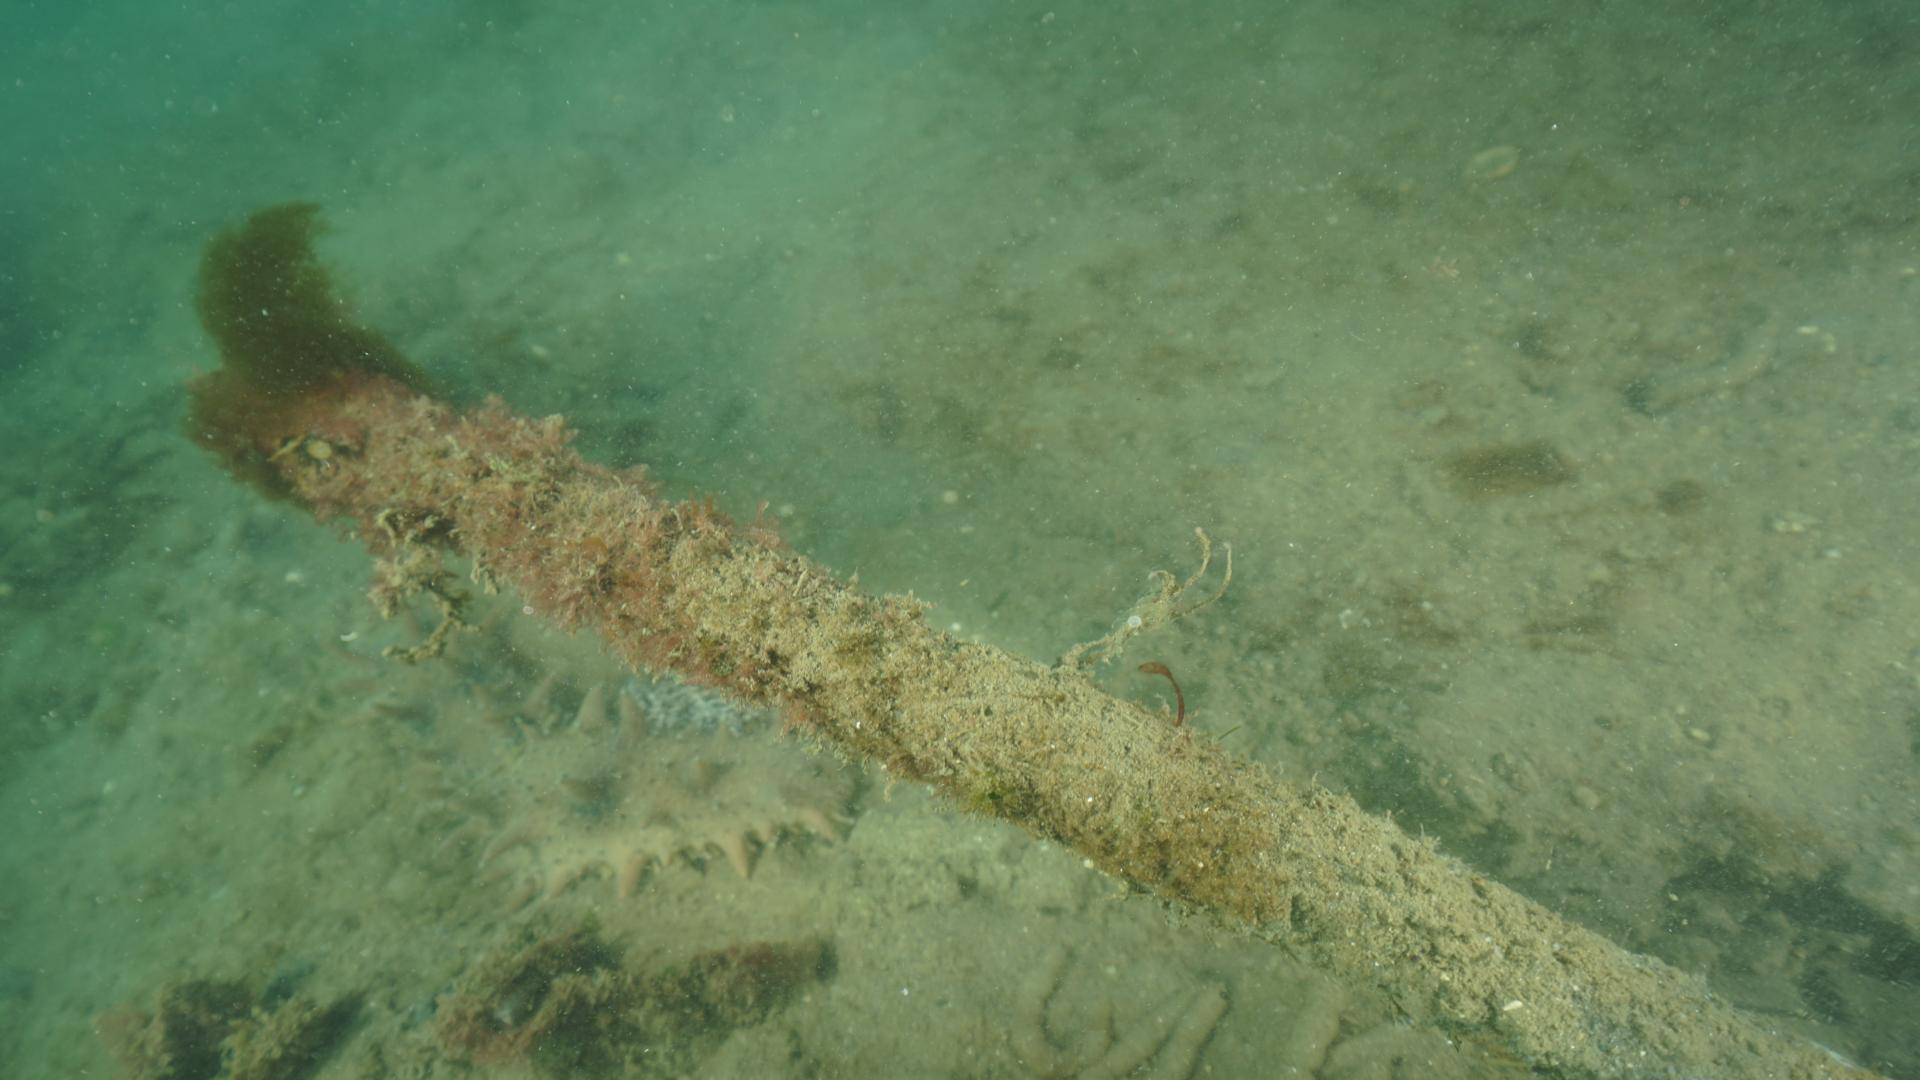rope: (293, 380, 1888, 1080)
